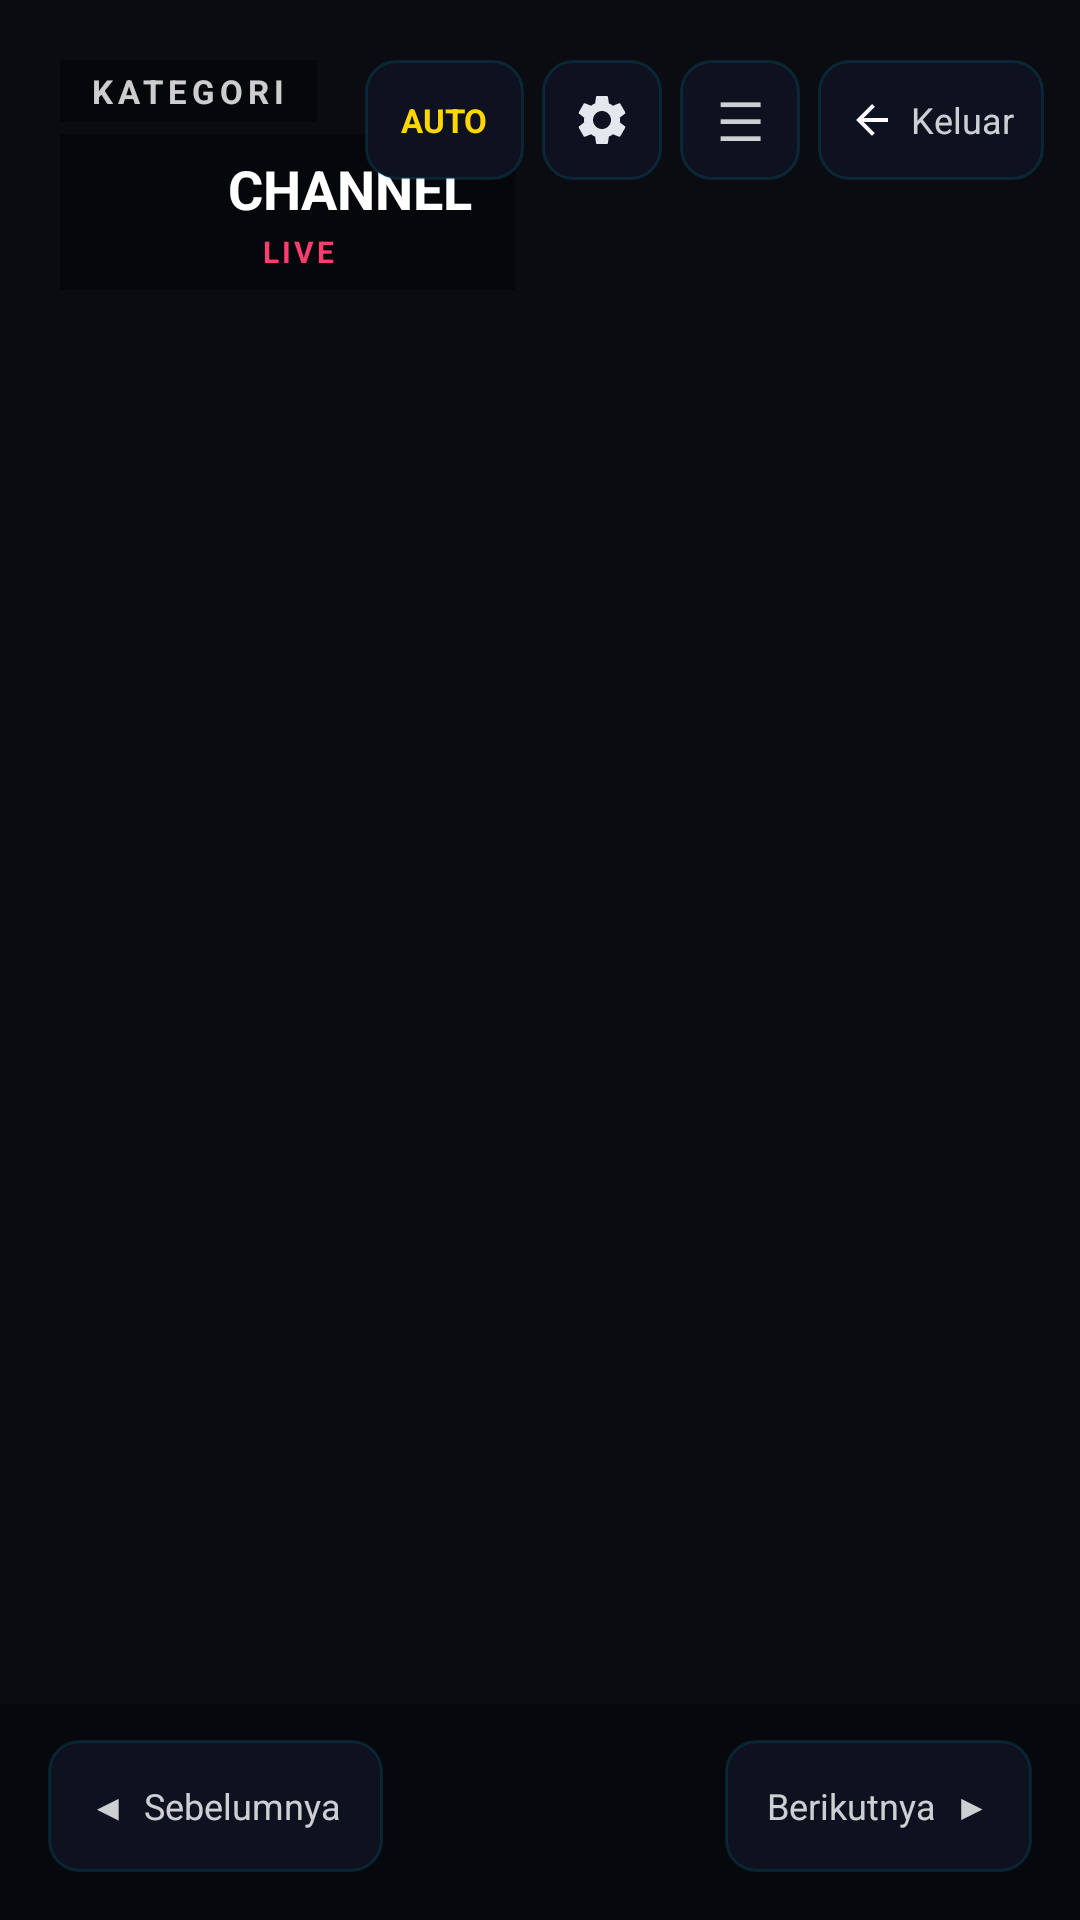

Icons on this 1080x1920 Android screen, each with the point to tap as point (x, y):
back: point (872, 120)
settings: point (602, 120)
